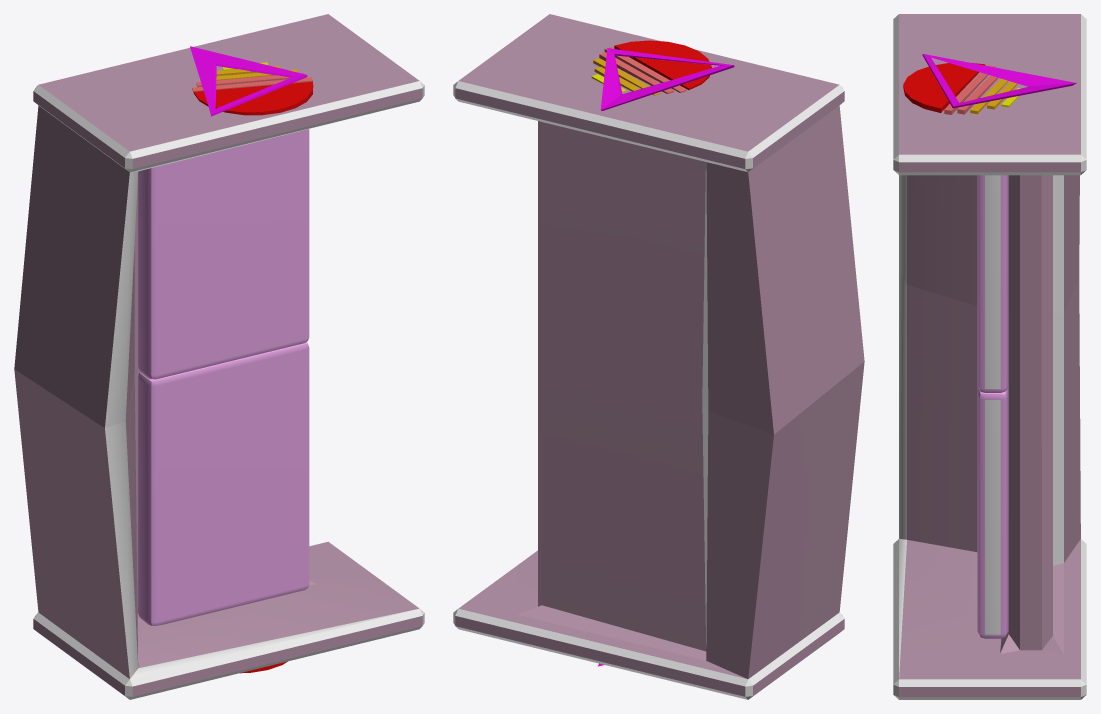
Rendered from Retro_Couch.fbx.
The picture shows the model from 3 angles, left to right: view 1: azimuth 30°, elevation 25°; view 2: azimuth 150°, elevation 25°; view 3: azimuth 270°, elevation 25°; orthographic projection.
Visible parts, largest first — view 1: Retro_Couch; view 2: Retro_Couch; view 3: Retro_Couch.
Part boxes in pixels (left/top/right/bottom): Retro_Couch: left=14, top=14, right=424, bottom=699; Retro_Couch: left=453, top=14, right=864, bottom=699; Retro_Couch: left=893, top=14, right=1086, bottom=699.
Bounding box in the file's own units: 2.41 × 4.07 × 1.27.
